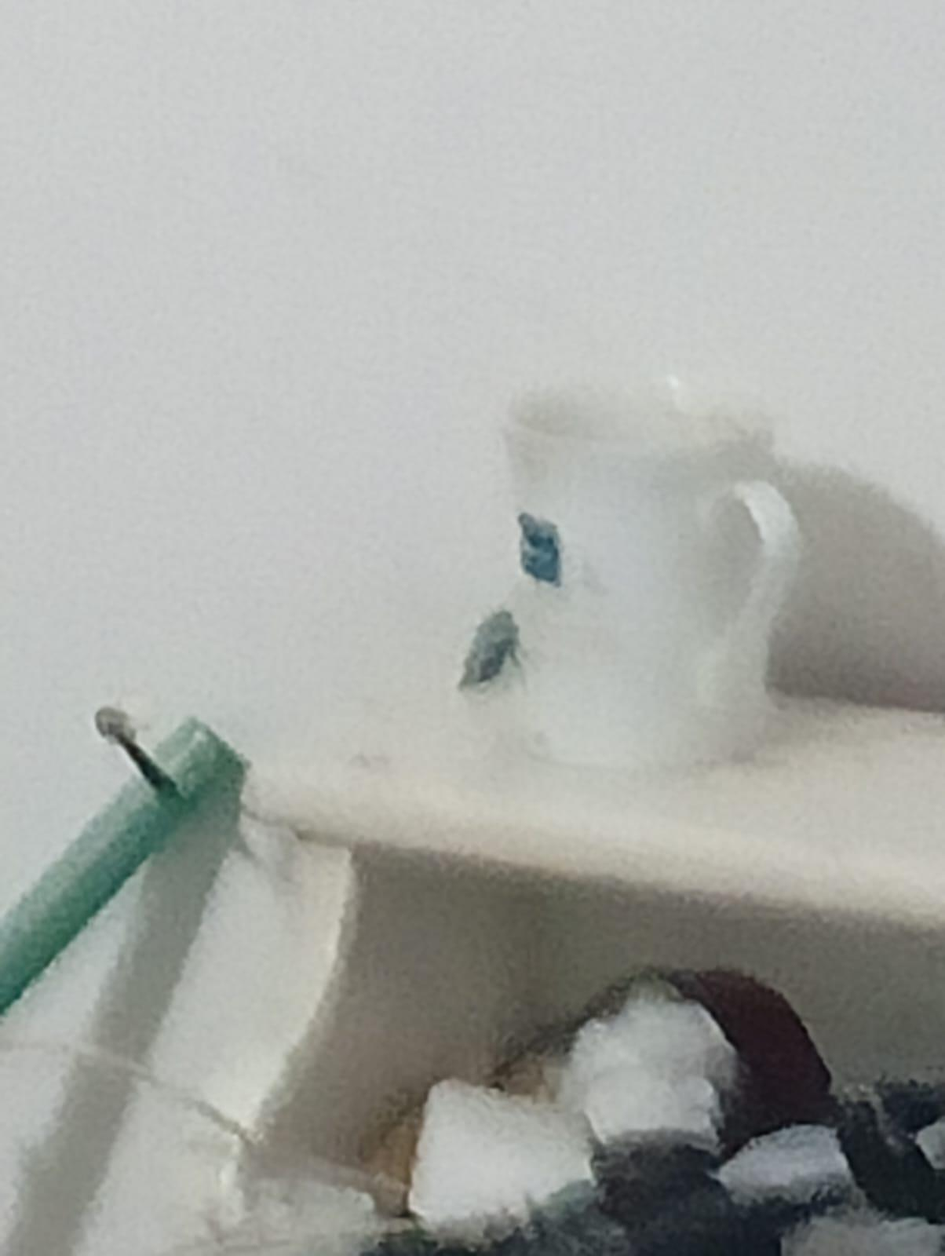cup: (506, 389, 799, 768)
